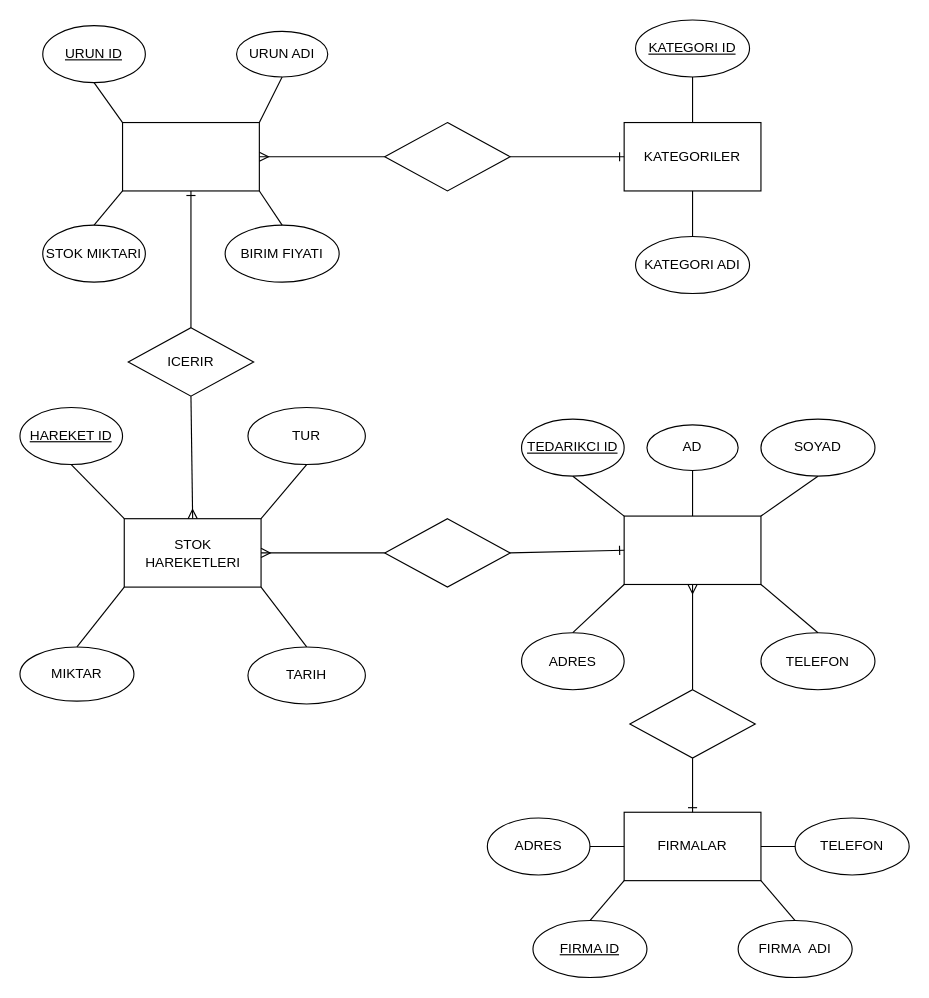
Some shapes in this 929 by 998 pixel diagram are drawn without their labels. The shapes that lost their labels are listed below. From the top down, each one's box as (x1, y1, x2, y2) in pixels, then its label:
(121, 121, 259, 191): URUNLER
(384, 121, 510, 191): SAHIPTIR
(384, 518, 510, 587): YAPILIR
(623, 515, 761, 584): TEDARIKCILER
(629, 689, 755, 758): CALISIR
